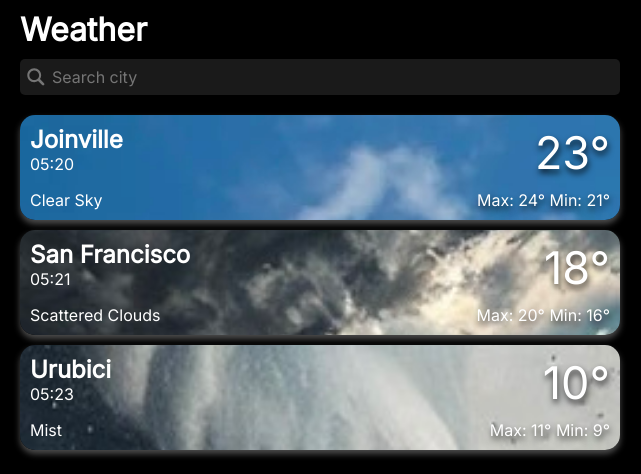
Test: City Search › filters cities when typing and finds no results
The image size is (641, 474).
Type "random" into the field with test id "search-input" at {"x": 320, "y": 77}, box [20,59,620,95]
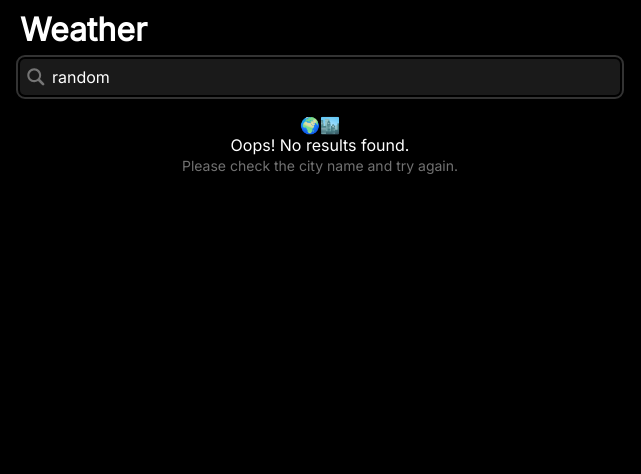
expect the element with test id "no-results" is shown: met, box [182,115,458,174]
